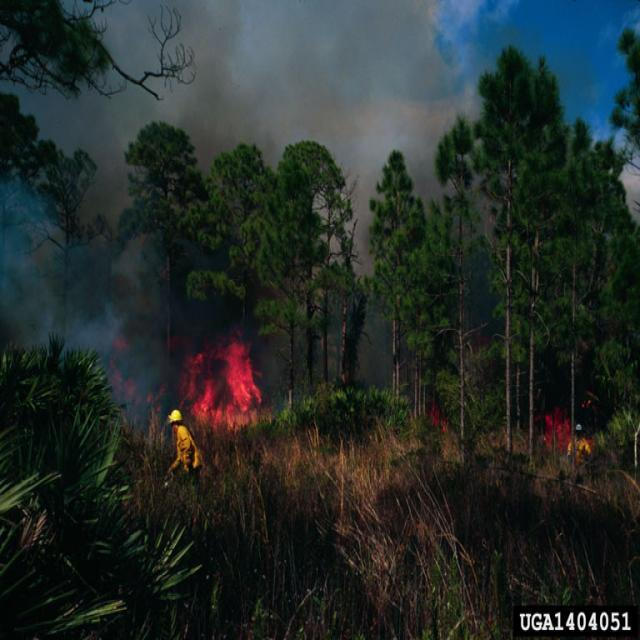Fire: (179, 326, 263, 436)
